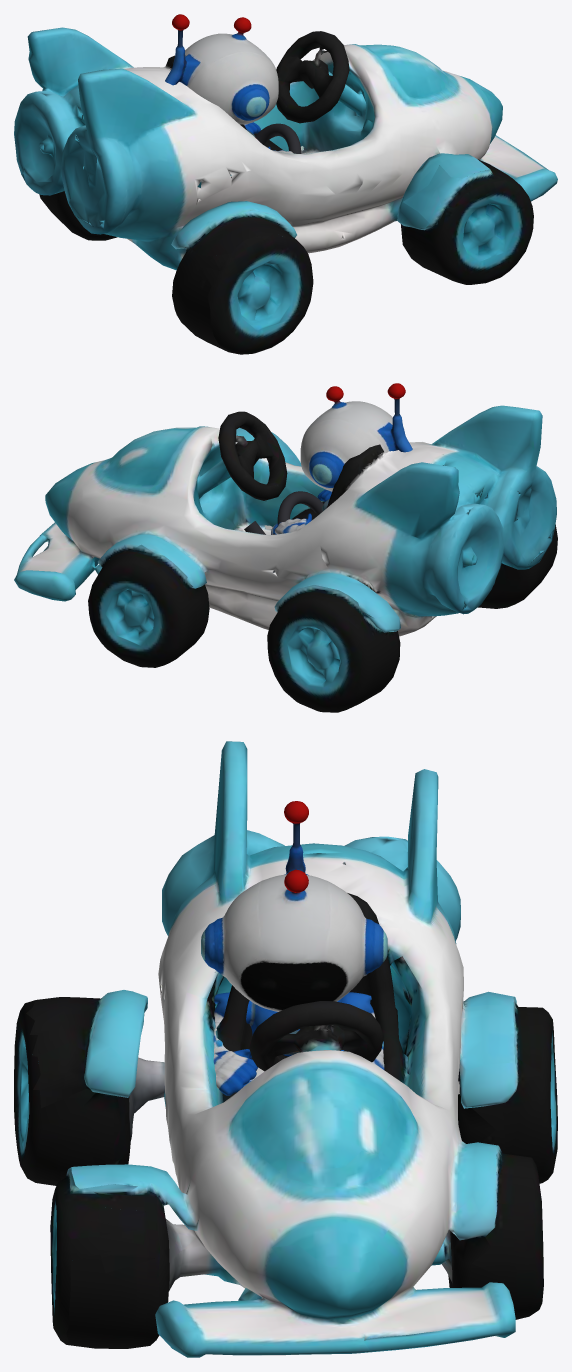
Rendered from kart-boulon.glb.
3 renders of one model, top to bottom at view 1: azimuth 30°, elevation 25°; view 2: azimuth 150°, elevation 25°; view 3: azimuth 270°, elevation 25°, orthographic. The views are drawn at different scales.
Visible parts, largest first — view 1: body, wheel_FR, wheel_RR, pilot; view 2: body, wheel_RL, wheel_FL, pilot; view 3: body, pilot, wheel_RL, wheel_RR, wheel_FR, wheel_FL.
Boxes of the visible parts, x1,y1,x2,y2 form: body: (14, 27, 557, 354); wheel_FR: (403, 160, 533, 284); wheel_RR: (200, 233, 313, 354); pilot: (165, 14, 293, 153); body: (14, 405, 557, 694); wheel_RL: (267, 585, 398, 712); wheel_FL: (88, 544, 207, 667); pilot: (271, 383, 412, 534); body: (26, 741, 540, 1357); pilot: (201, 801, 387, 1095); wheel_RL: (472, 997, 557, 1183); wheel_RR: (14, 1000, 95, 1185); wheel_FR: (50, 1167, 154, 1344); wheel_FL: (472, 1145, 543, 1319).
Size of the model in its own units: 1.86 by 1.04 by 1.32.
Materials: 3 (2 with a texture image).
